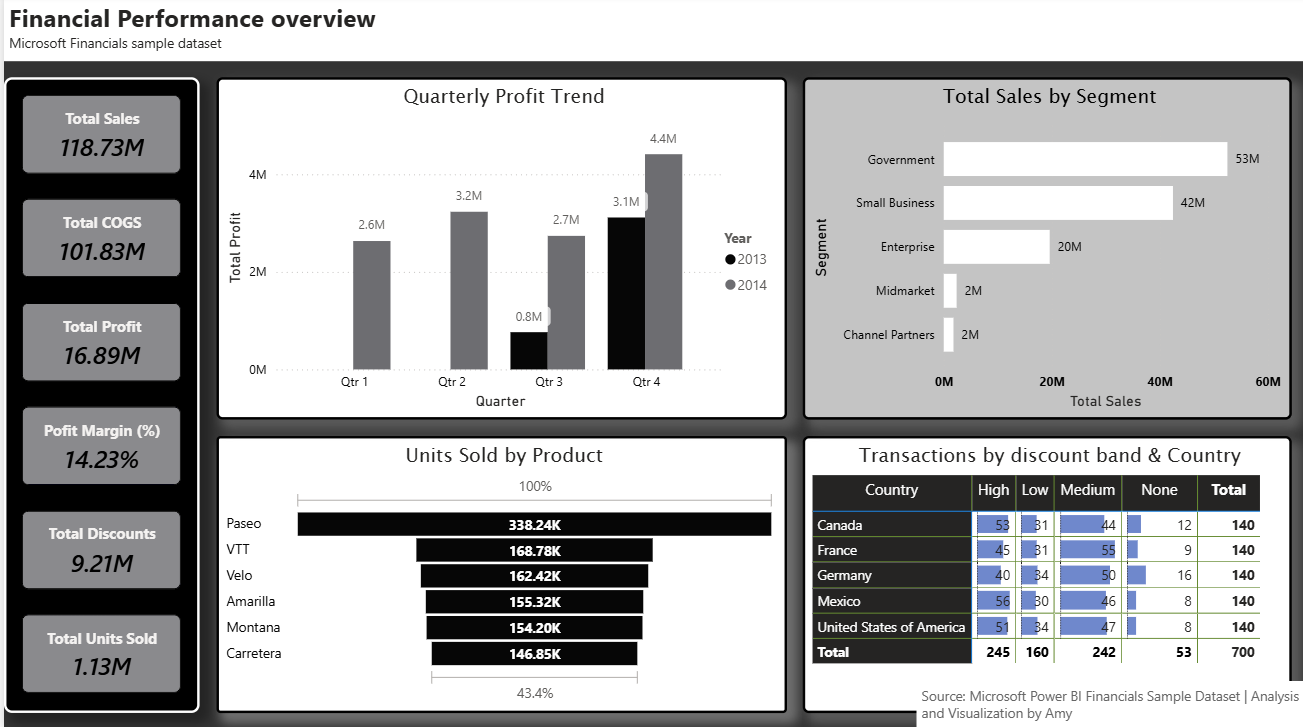

Layout of this report page (visuals, bound fields, positions):
{"tool":"powerbi","page":{"name":"Overall Performance","canvas":[1280,720],"ordinal":0},"visuals":[{"type":"textbox","box":[0,0,1280,64],"z":0},{"type":"cardVisual","title":"Profits","fields":{"Data":["financials.Total Sales","financials.Total COGS","financials.Total Profit","financials.Pofit Margin (%)","financials.Total Discounts","financials.Total Units Sold"]},"box":[0,80,192,624],"z":1000},{"type":"pivotTable","title":"Transactions by discount band & Country","fields":{"Columns":["financials.Discount Band"],"Rows":["financials.Country"],"Values":["CountNonNull(financials.Country)"]},"box":[784,432,480,272],"z":2000},{"type":"funnel","title":"Units Sold by Product","fields":{"Category":["financials.Product"],"Y":["financials.Total Units Sold"]},"box":[208,432,560,272],"z":3000},{"type":"clusteredBarChart","fields":{"Category":["financials.Segment"],"Y":["financials.Total Sales"]},"box":[784,80,480,336],"z":4000},{"type":"lineClusteredColumnComboChart","title":"Quarterly Profit Trend","fields":{"Category":["financials.Date.Variation.Date Hierarchy.Quarter"],"Series":["financials.Date.Variation.Date Hierarchy.Year"],"Y":["financials.Total Profit"]},"box":[208,80,560,336],"z":5000},{"type":"textbox","box":[896,672,384,48],"z":6000}]}

Visuals, with their boxes in screenshot pixels (x1, y1, x2, y2), scaled from the page's 1280x720 canvas onto the 1303x727 screenshot:
textbox: {"left": 0, "top": 0, "right": 1302, "bottom": 65}
"Profits" cardVisual: {"left": 0, "top": 81, "right": 195, "bottom": 711}
"Transactions by discount band & Country" pivotTable: {"left": 798, "top": 436, "right": 1287, "bottom": 711}
"Units Sold by Product" funnel: {"left": 212, "top": 436, "right": 782, "bottom": 711}
clusteredBarChart - financials.Segment x financials.Total Sales: {"left": 798, "top": 81, "right": 1287, "bottom": 420}
"Quarterly Profit Trend" lineClusteredColumnComboChart: {"left": 212, "top": 81, "right": 782, "bottom": 420}
textbox: {"left": 912, "top": 679, "right": 1302, "bottom": 726}
